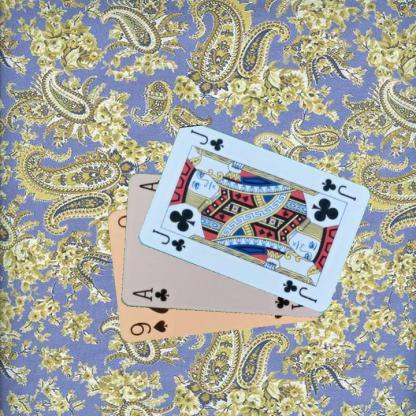9s: (127, 318, 169, 338)
Ac: (130, 285, 170, 303)
Jc: (149, 226, 187, 254), (318, 176, 356, 202)
